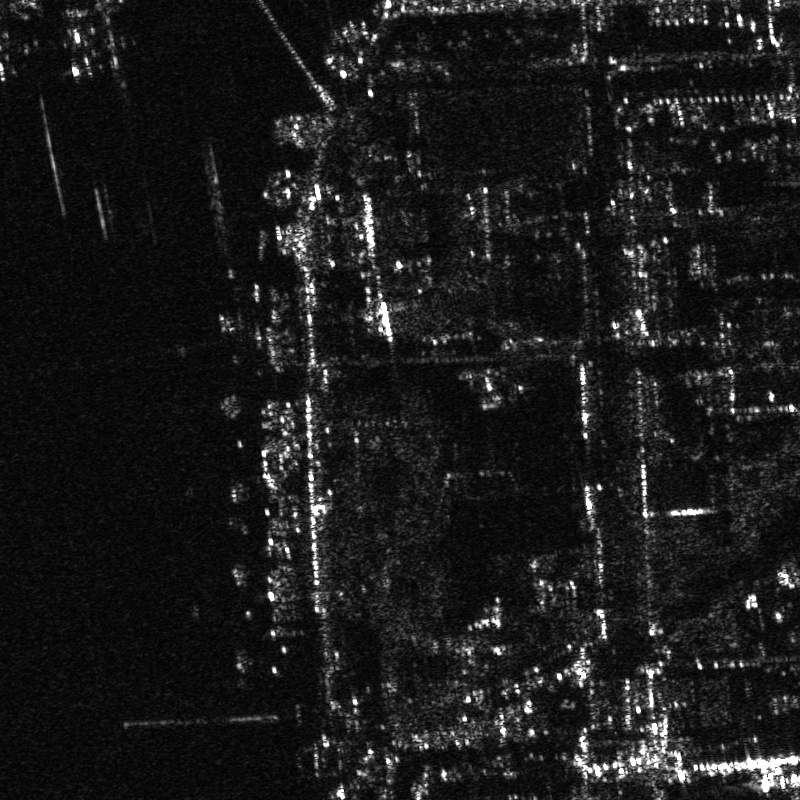Boeing737: (50, 3, 102, 87)
